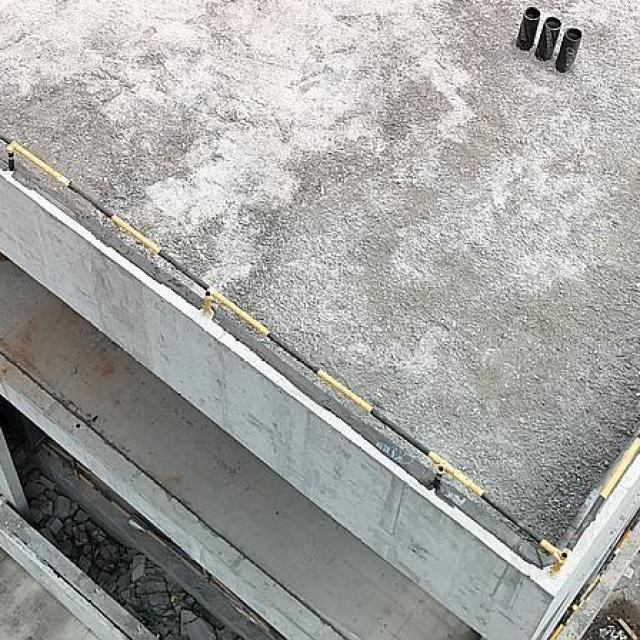Guardrail: (0, 125, 640, 576), (47, 442, 269, 632), (545, 505, 640, 640)
